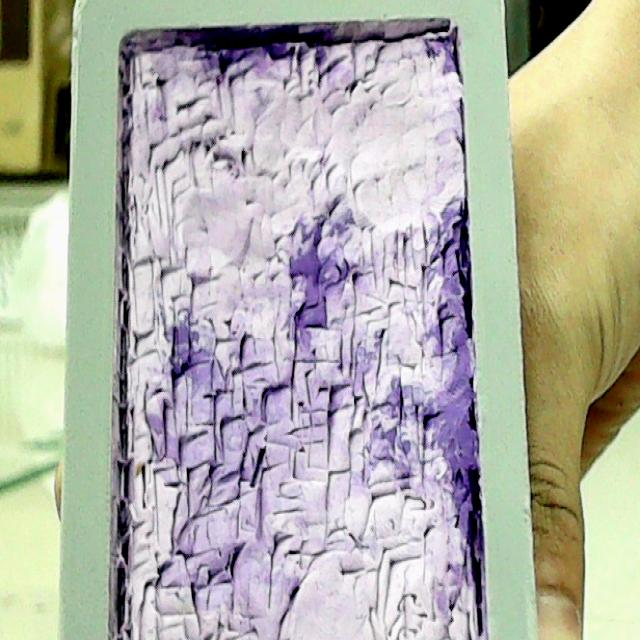block: (41, 0, 529, 640)
